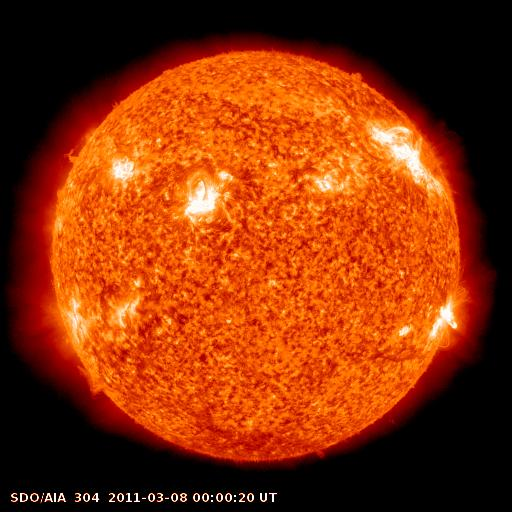prominence: (71, 356, 113, 407), (57, 123, 103, 169)
